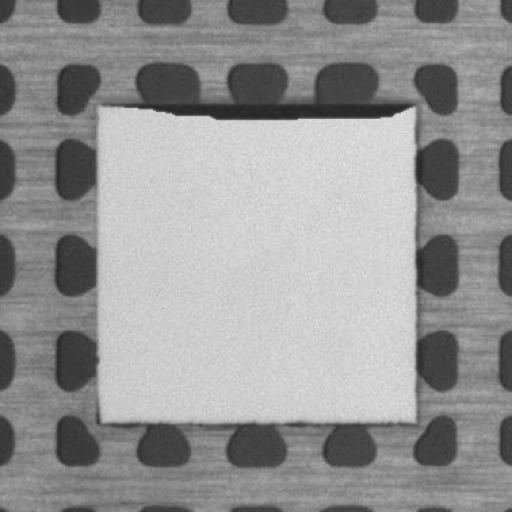DIE_BROKEN: (115, 94, 402, 124)
